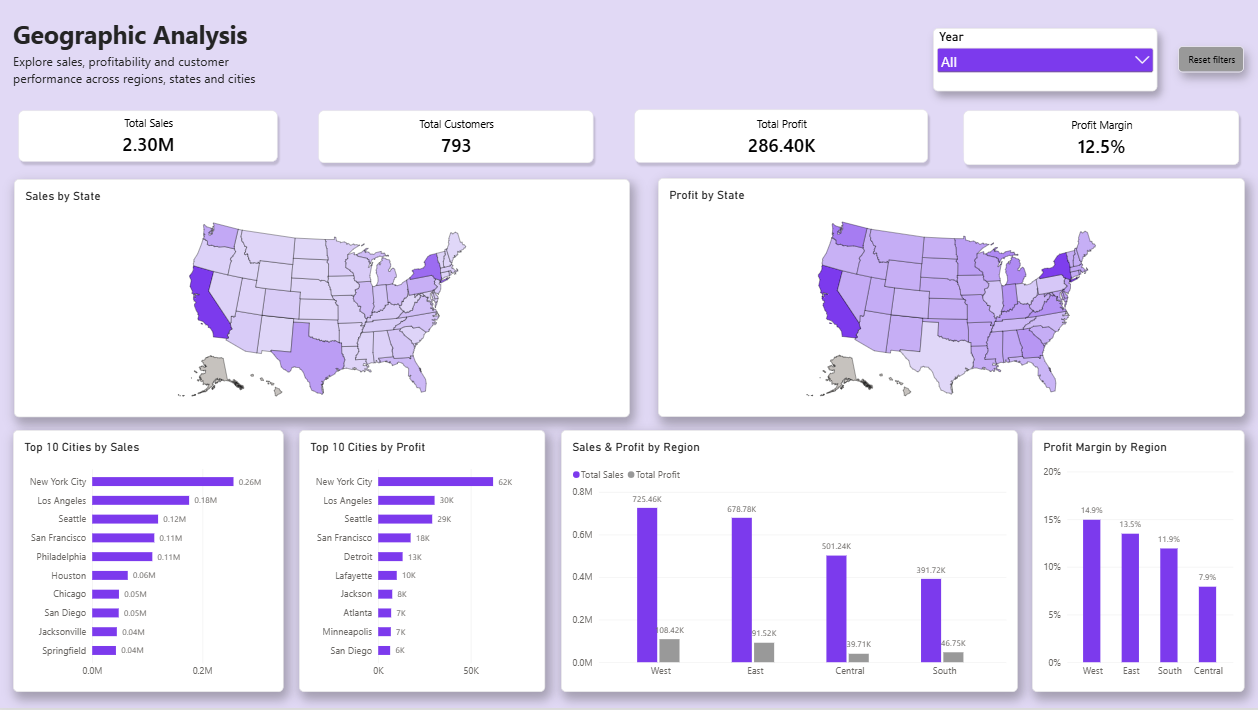

The page's visual inventory and layout, read from the dashboard file:
{"tool":"powerbi","page":{"name":"Geographic Analysis","canvas":[1920,1080],"ordinal":3},"visuals":[{"type":"textbox","box":[26.3,33.6,370.6,62.7],"z":0},{"type":"cardVisual","fields":{"Data":["FactSales.Total Sales"]},"box":[26.3,164.9,410,94.8],"z":1000},{"type":"cardVisual","fields":{"Data":["FactSales.Total Profit"]},"box":[959,163.4,461,97.8],"z":2000},{"type":"cardVisual","fields":{"Data":["FactSales.Profit Margin"]},"box":[1457.5,164.9,434.8,99.2],"z":3000},{"type":"cardVisual","fields":{"Data":["FactSales.Total Customers"]},"box":[481,164.9,433.3,96.3],"z":4000},{"type":"shapeMap","title":"Sales by State","fields":{"Category":["DimGeography.State"],"Value":["FactSales.Total Sales"]},"box":[958.5,275.7,933.7,361.8],"z":5000},{"type":"shapeMap","title":"Profit by State","fields":{"Category":["DimGeography.State"],"Value":["FactSales.Total Profit"]},"box":[26.3,275.7,888.5,361.8],"z":6000},{"type":"clusteredBarChart","title":"Top 10 Cities by Sales","fields":{"Category":["DimGeography.City"],"Y":["FactSales.Total Sales"]},"box":[26.3,658,410,396.8],"z":7000},{"type":"clusteredBarChart","title":"Top 10 Cities by Profit","fields":{"Category":["DimGeography.City"],"Y":["FactSales.Total Profit"]},"box":[459.1,658,373.5,396.8],"z":8000},{"type":"clusteredColumnChart","title":"Sales & Profit by Region","fields":{"Category":["DimGeography.Region"],"Y":["FactSales.Total Sales","FactSales.Total Profit"]},"box":[855.4,658,691.6,396.8],"z":9000},{"type":"clusteredColumnChart","title":"Profit Margin by Region","fields":{"Category":["DimGeography.Region"],"Y":["FactSales.Profit Margin"]},"box":[1569.8,658,322.4,396.8],"z":10000},{"type":"textbox","box":[26.3,86.1,370.6,78.8],"z":11000},{"type":"slicer","fields":{"Values":["Calendar.Year"]},"box":[1419.6,48.1,339.9,96.3],"z":12000},{"type":"actionButton","box":[1791.6,75.9,100,40],"z":12001}]}

Visuals, with their boxes in screenshot pixels (x1, y1, x2, y2), scaled from the page's 1920x1080 canvas onto the 1258x710 screenshot:
textbox: rect(17, 22, 260, 63)
cardVisual - FactSales.Total Sales: rect(17, 108, 286, 171)
cardVisual - FactSales.Total Profit: rect(628, 107, 930, 172)
cardVisual - FactSales.Profit Margin: rect(955, 108, 1240, 174)
cardVisual - FactSales.Total Customers: rect(315, 108, 599, 172)
"Sales by State" shapeMap: rect(628, 181, 1240, 419)
"Profit by State" shapeMap: rect(17, 181, 599, 419)
"Top 10 Cities by Sales" clusteredBarChart: rect(17, 433, 286, 693)
"Top 10 Cities by Profit" clusteredBarChart: rect(301, 433, 546, 693)
"Sales & Profit by Region" clusteredColumnChart: rect(560, 433, 1014, 693)
"Profit Margin by Region" clusteredColumnChart: rect(1029, 433, 1240, 693)
textbox: rect(17, 57, 260, 108)
slicer - Calendar.Year: rect(930, 32, 1153, 95)
actionButton: rect(1174, 50, 1239, 76)
